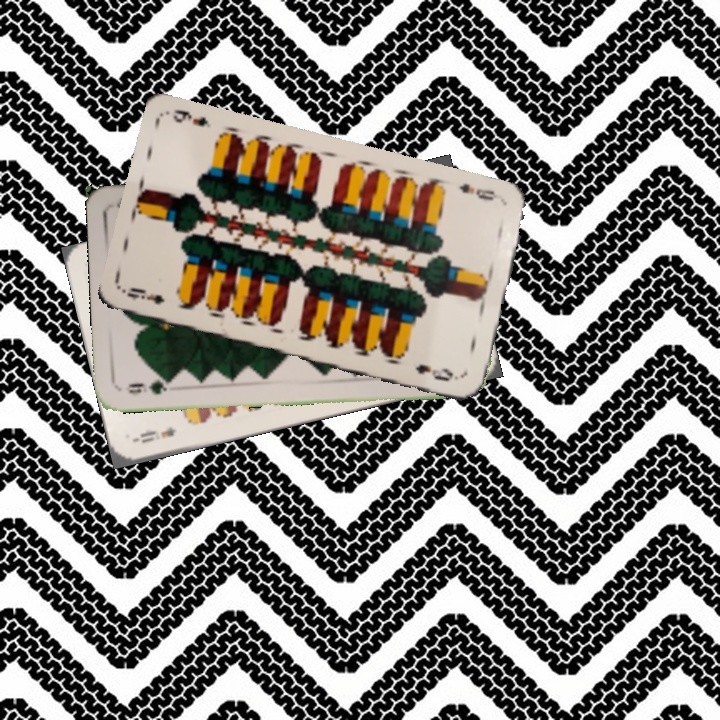E9: (454, 179, 506, 205), (132, 422, 179, 446), (121, 283, 167, 307)
G9: (124, 375, 177, 397)
